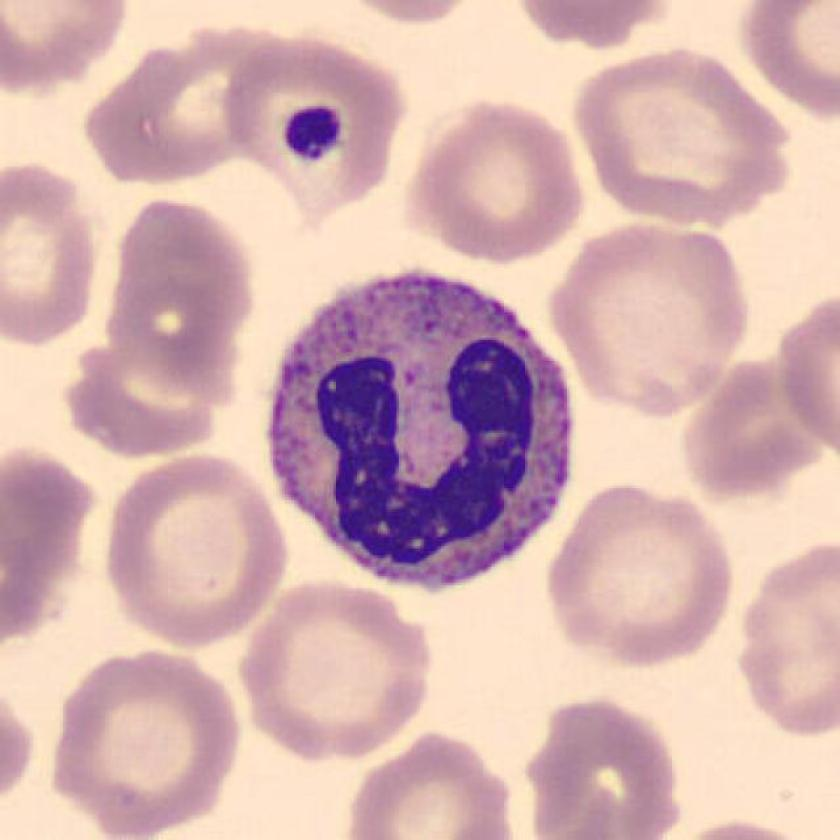neutrophil: (270, 274, 573, 590)
